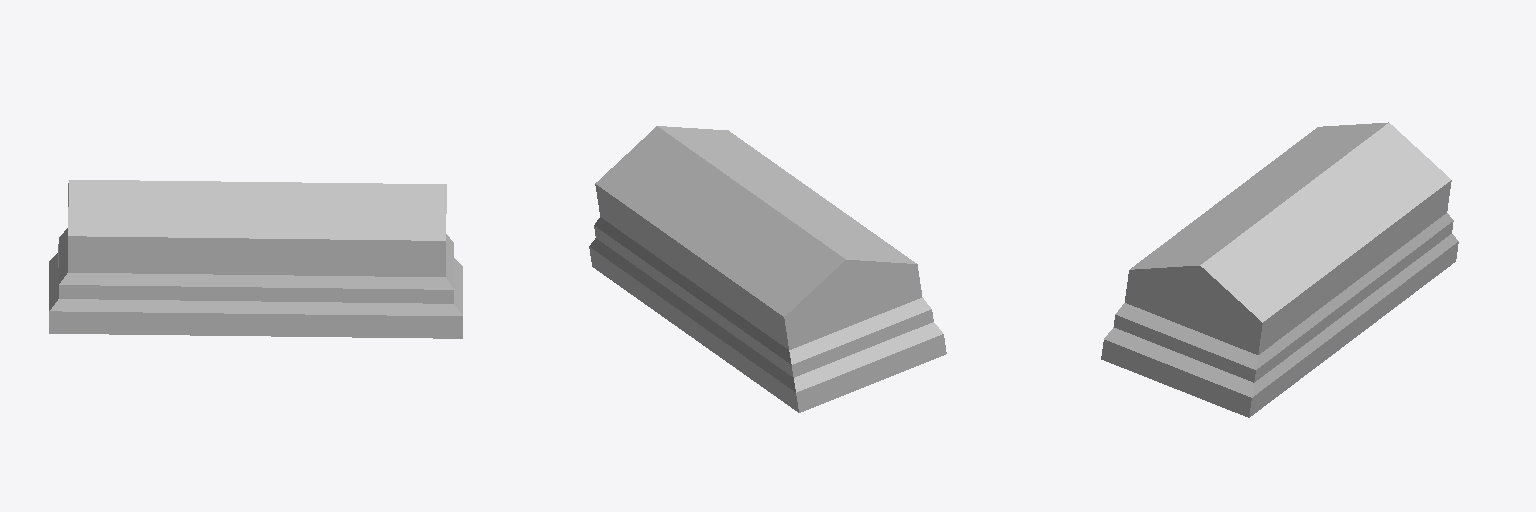
The model's file is Gravestone_Flat_5 1.obj.
The picture shows the model from 3 angles: view 1: azimuth 30°, elevation 25°; view 2: azimuth 150°, elevation 25°; view 3: azimuth 270°, elevation 25°; orthographic projection.
Parts seen in each view (by area): view 1: Gravestone_Flat_5; view 2: Gravestone_Flat_5; view 3: Gravestone_Flat_5.
Boxes of the visible parts, x1=… form: Gravestone_Flat_5: x1=49, y1=180, x2=462, y2=338; Gravestone_Flat_5: x1=589, y1=126, x2=946, y2=412; Gravestone_Flat_5: x1=1101, y1=122, x2=1458, y2=417.
Bounding box in the file's own units: 1.22 × 0.4151 × 0.9785.